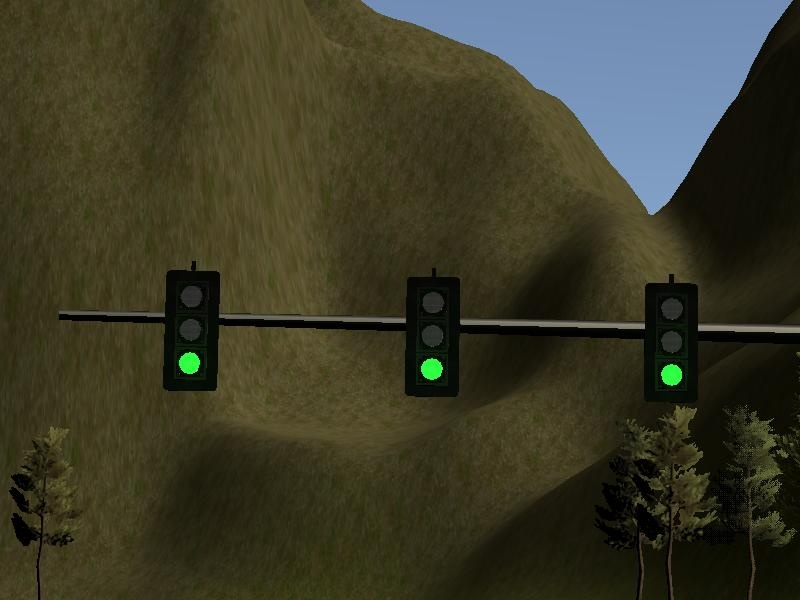GREEN: (164, 270, 219, 391), (406, 277, 461, 395), (644, 280, 699, 398)
